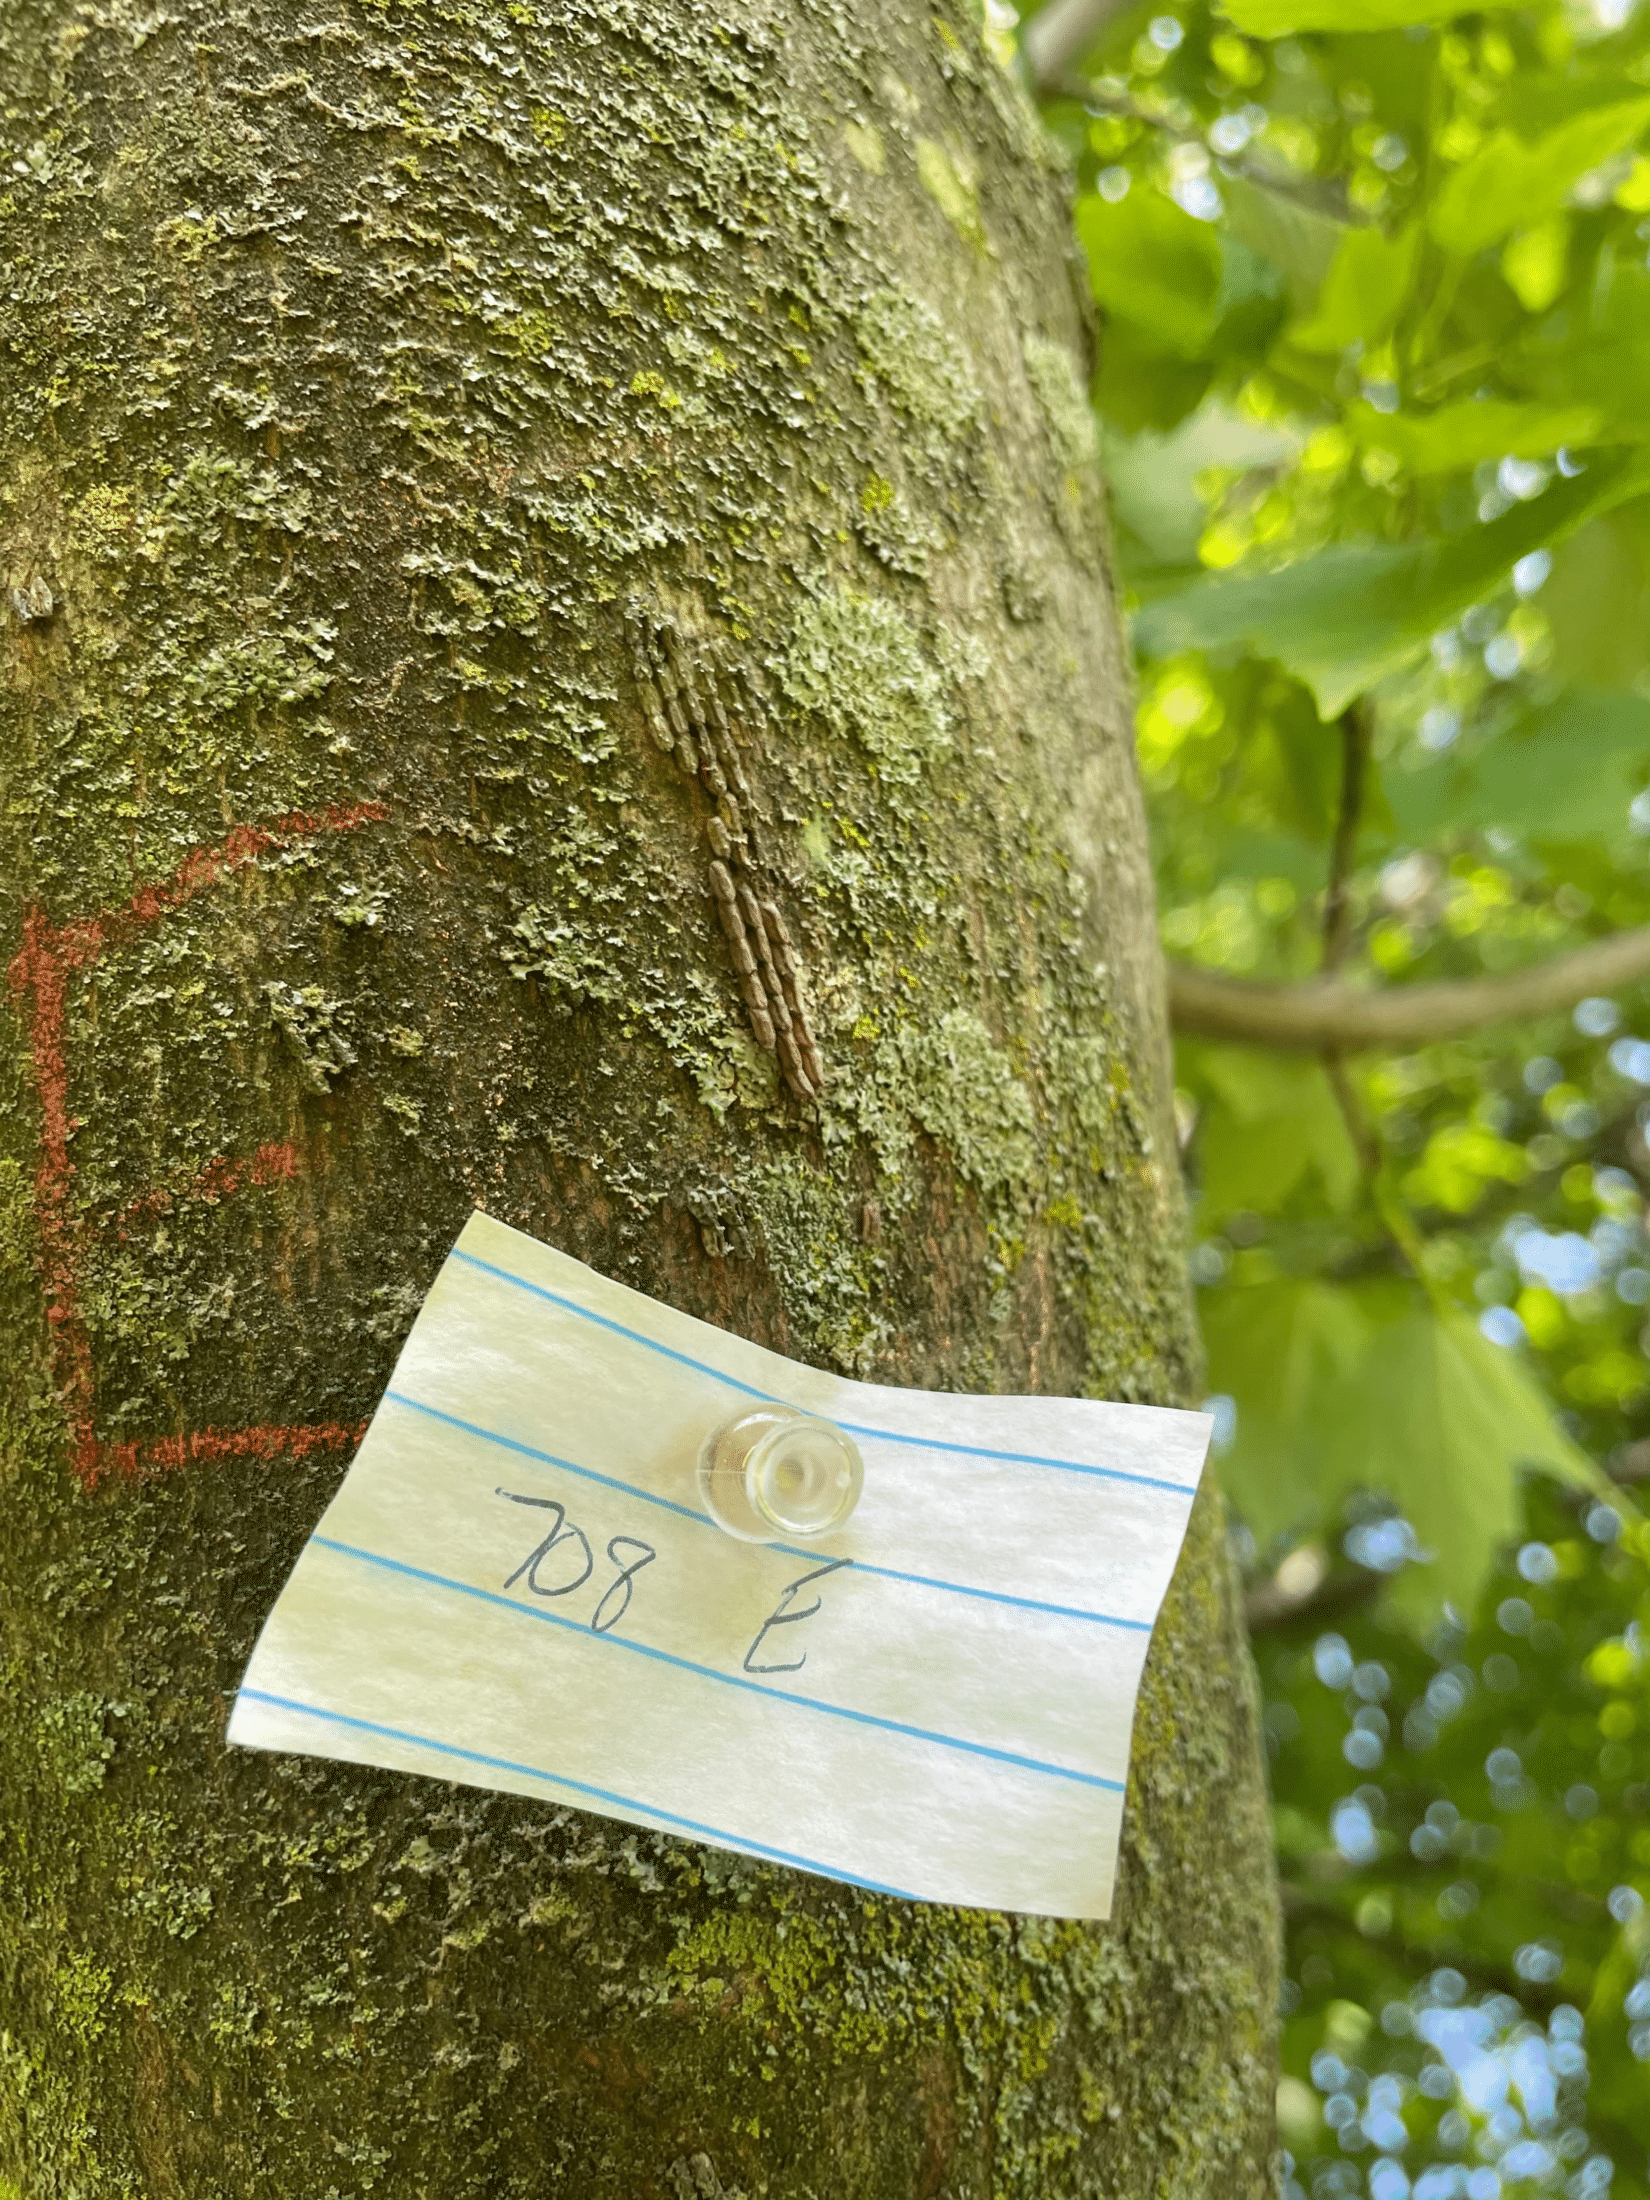egg masses: (603, 532, 865, 1121)
